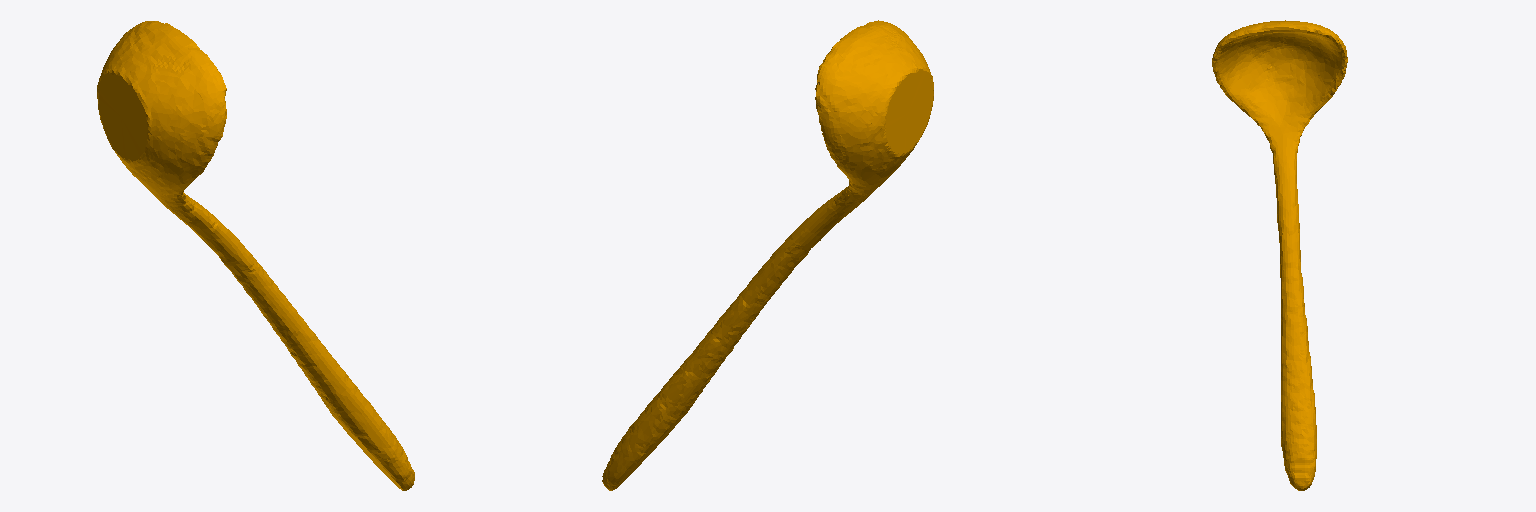
URDF robot description (spoon):
<?xml version="1.0" ?>
<!-- auto-generated by gen_object_urdf.py (TactiDex import) -->
<robot name="spoon">
  <link name="bottom">
    <inertial>
      <origin rpy="0 0 0" xyz="0.0015967583 -0.00066967283 0.0082160232"/>
      <mass value="0.05"/>
      <inertia ixx="0.00019948631" ixy="-5.6783514e-06" ixz="0.00010121509"
               iyy="0.00024828772" iyz="9.9212127e-06" izz="8.2619844e-05"/>
    </inertial>
    <visual>
      <origin rpy="0 0 0" xyz="0 0 0"/>
      <geometry><mesh filename="spoon.obj" scale="1 1 1"/></geometry>
    </visual>
      <collision>
        <origin rpy="0 0 0" xyz="0 0 0"/>
        <geometry><mesh filename="collision_parts/part_000.obj" scale="1 1 1"/></geometry>
      </collision>
      <collision>
        <origin rpy="0 0 0" xyz="0 0 0"/>
        <geometry><mesh filename="collision_parts/part_001.obj" scale="1 1 1"/></geometry>
      </collision>
      <collision>
        <origin rpy="0 0 0" xyz="0 0 0"/>
        <geometry><mesh filename="collision_parts/part_002.obj" scale="1 1 1"/></geometry>
      </collision>
      <collision>
        <origin rpy="0 0 0" xyz="0 0 0"/>
        <geometry><mesh filename="collision_parts/part_003.obj" scale="1 1 1"/></geometry>
      </collision>
      <collision>
        <origin rpy="0 0 0" xyz="0 0 0"/>
        <geometry><mesh filename="collision_parts/part_004.obj" scale="1 1 1"/></geometry>
      </collision>
      <collision>
        <origin rpy="0 0 0" xyz="0 0 0"/>
        <geometry><mesh filename="collision_parts/part_005.obj" scale="1 1 1"/></geometry>
      </collision>
      <collision>
        <origin rpy="0 0 0" xyz="0 0 0"/>
        <geometry><mesh filename="collision_parts/part_006.obj" scale="1 1 1"/></geometry>
      </collision>
      <collision>
        <origin rpy="0 0 0" xyz="0 0 0"/>
        <geometry><mesh filename="collision_parts/part_007.obj" scale="1 1 1"/></geometry>
      </collision>
      <collision>
        <origin rpy="0 0 0" xyz="0 0 0"/>
        <geometry><mesh filename="collision_parts/part_008.obj" scale="1 1 1"/></geometry>
      </collision>
      <collision>
        <origin rpy="0 0 0" xyz="0 0 0"/>
        <geometry><mesh filename="collision_parts/part_009.obj" scale="1 1 1"/></geometry>
      </collision>
  </link>
</robot>

--- Render facts (derived) ---
3 views of the same robot in one strip: view 1: azimuth 30°, elevation 25°; view 2: azimuth 150°, elevation 25°; view 3: azimuth 270°, elevation 25° (orthographic).
Robot: spoon — 1 links, 0 joints (none); root link bottom; default pose: every joint at zero.
Links seen in each view (by area): view 1: bottom; view 2: bottom; view 3: bottom.
Link boxes in pixels (x1=…): bottom: x1=97, y1=21, x2=414, y2=490; bottom: x1=602, y1=20, x2=933, y2=490; bottom: x1=1212, y1=20, x2=1347, y2=490.
Size in the robot's own frame: 0.169 by 0.0897 by 0.2791 metres.
Meshes: 1 distinct files referenced, 1 mesh visuals loaded (1 OBJ).
